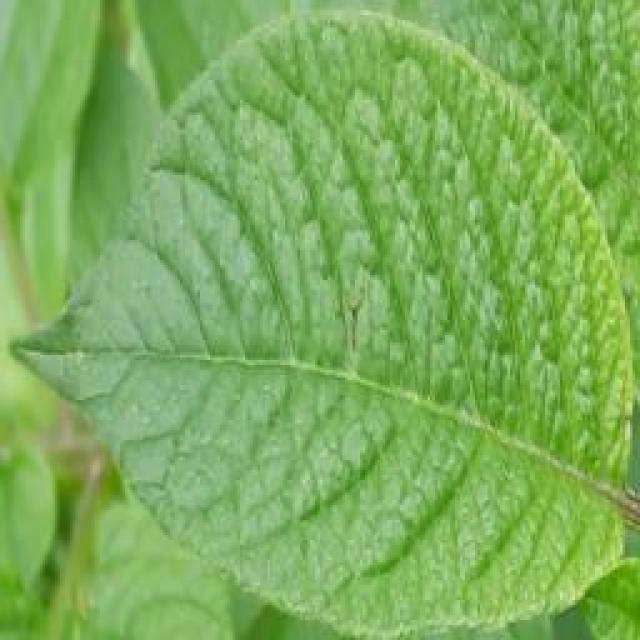healthy: (5, 5, 637, 637)
